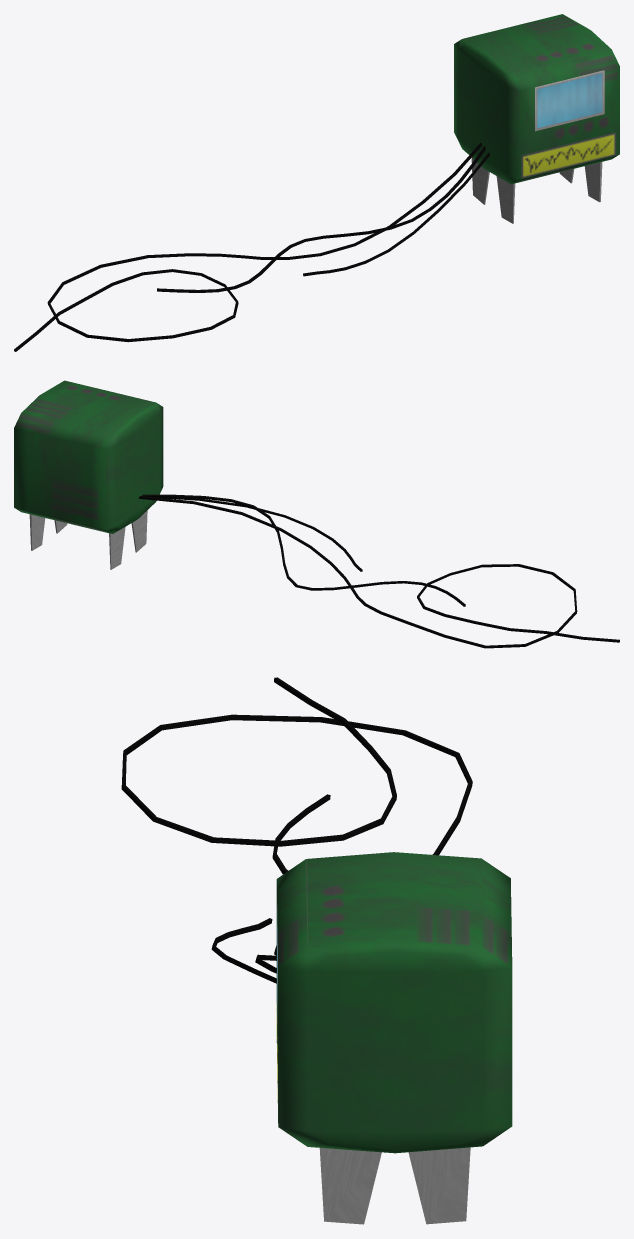
File: Colony_MiniPC_Art.glb
The picture shows the model from 3 angles, top to bottom: view 1: azimuth 30°, elevation 25°; view 2: azimuth 150°, elevation 25°; view 3: azimuth 270°, elevation 25°; orthographic projection. The views are drawn at different scales.
Visible parts, largest first — view 1: Colony_MiniPC_Art; view 2: Colony_MiniPC_Art; view 3: Colony_MiniPC_Art.
Boxes of the visible parts, bbox=[...] form: Colony_MiniPC_Art: bbox=[14, 14, 619, 351]; Colony_MiniPC_Art: bbox=[14, 380, 619, 648]; Colony_MiniPC_Art: bbox=[121, 677, 512, 1224].
Size of the model in its own units: 2.06 by 0.5153 by 0.6315.
2 materials, 2 textured.
